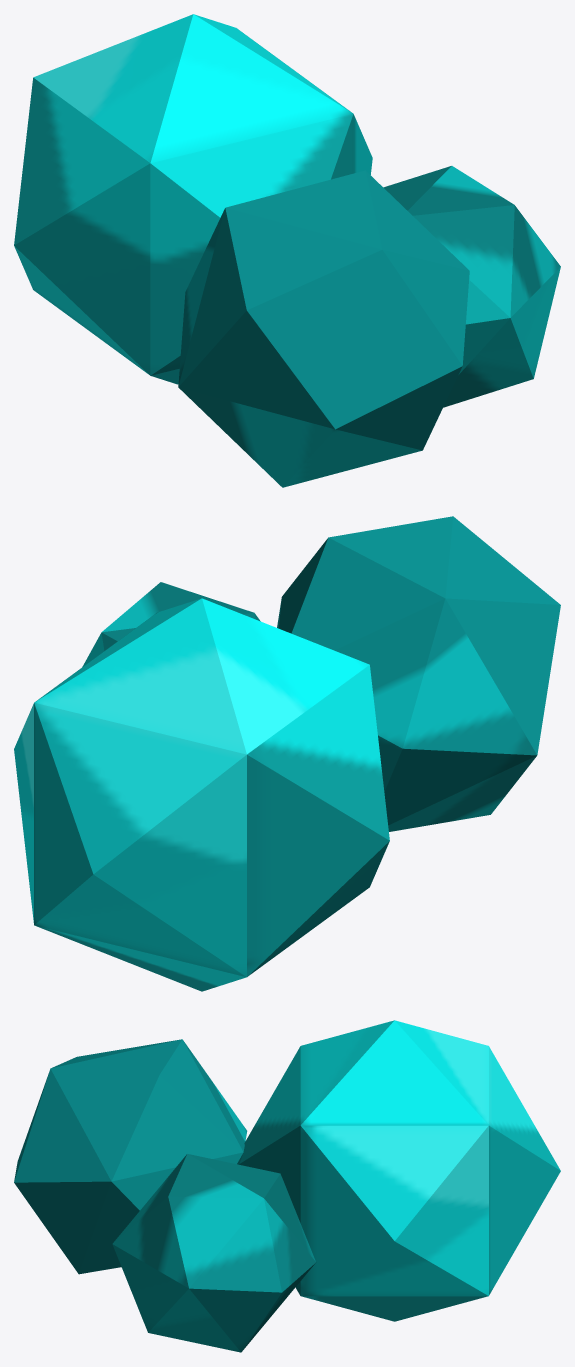
Rendered from Iron.fbx.
3 views of the same model, one above another, from view 1: azimuth 30°, elevation 25°; view 2: azimuth 150°, elevation 25°; view 3: azimuth 270°, elevation 25° (orthographic). The views are drawn at different scales.
Parts seen in each view (by area): view 1: iron; view 2: iron; view 3: iron.
Part boxes in pixels (<box>): iron: <box>14,14,560,487</box>; iron: <box>14,516,560,991</box>; iron: <box>14,1020,560,1352</box>.
Bounding box in the file's own units: 61.88 × 52.99 × 87.14.
